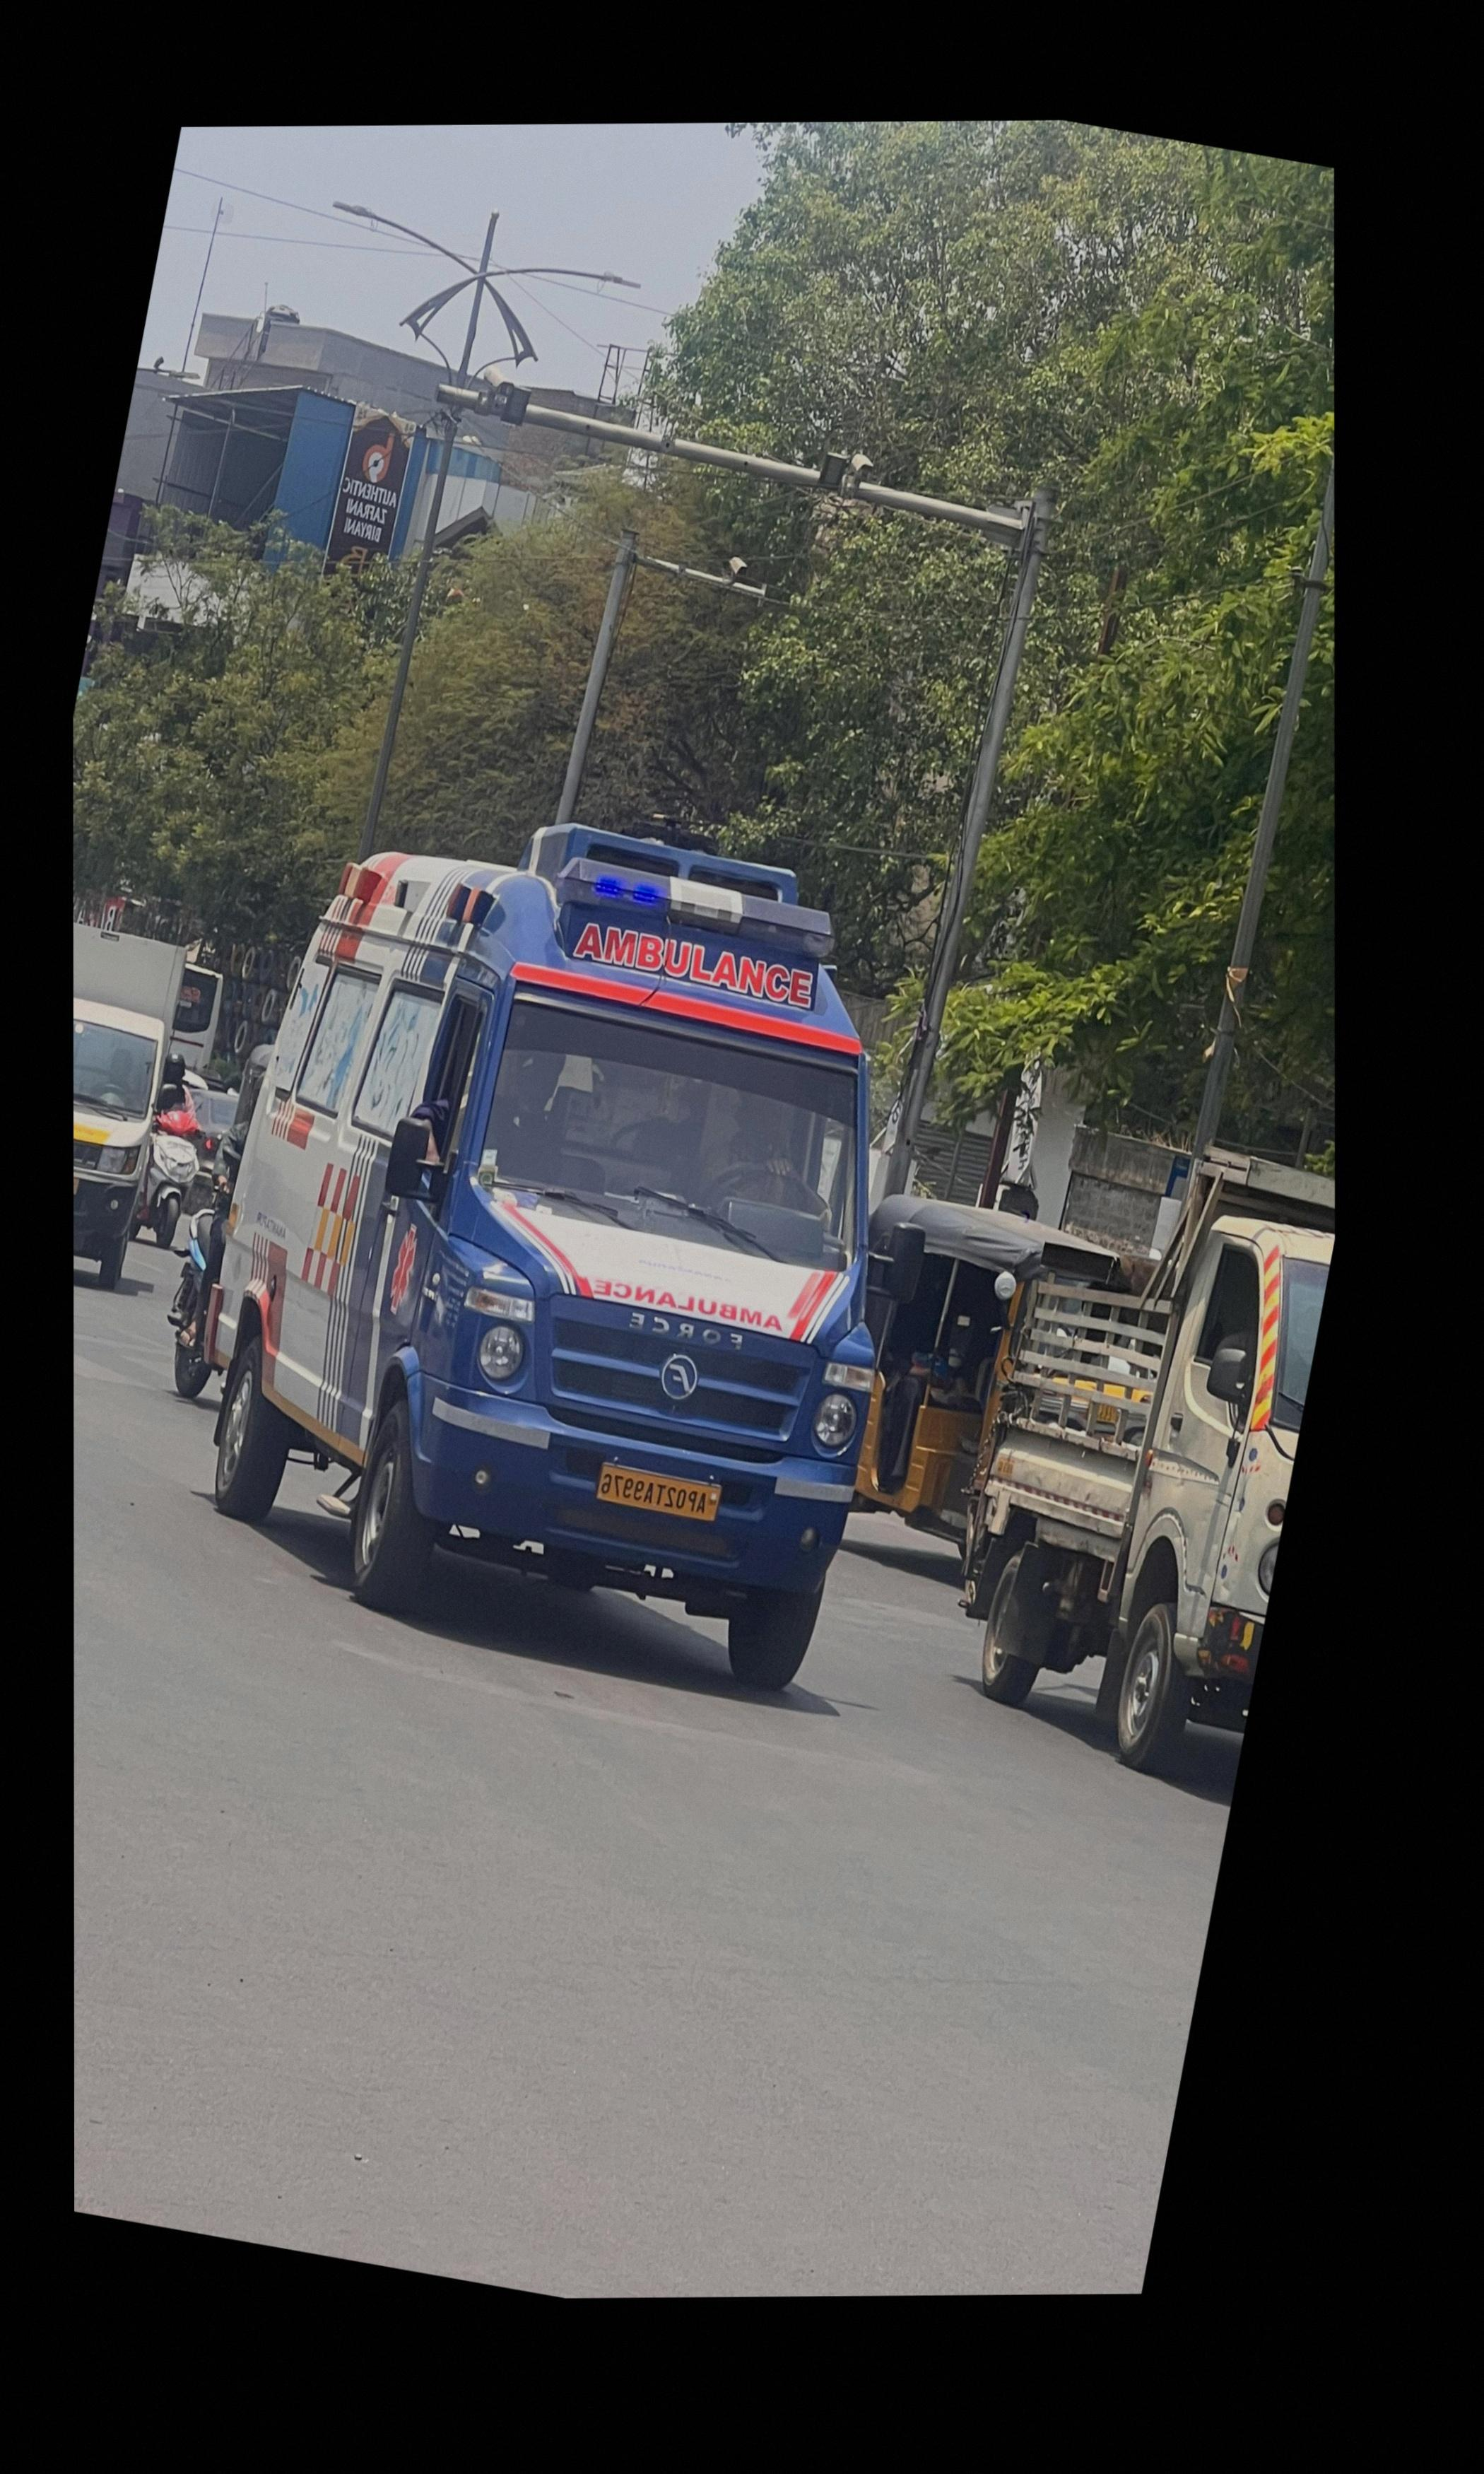ambulance: (214, 825, 874, 1705)
